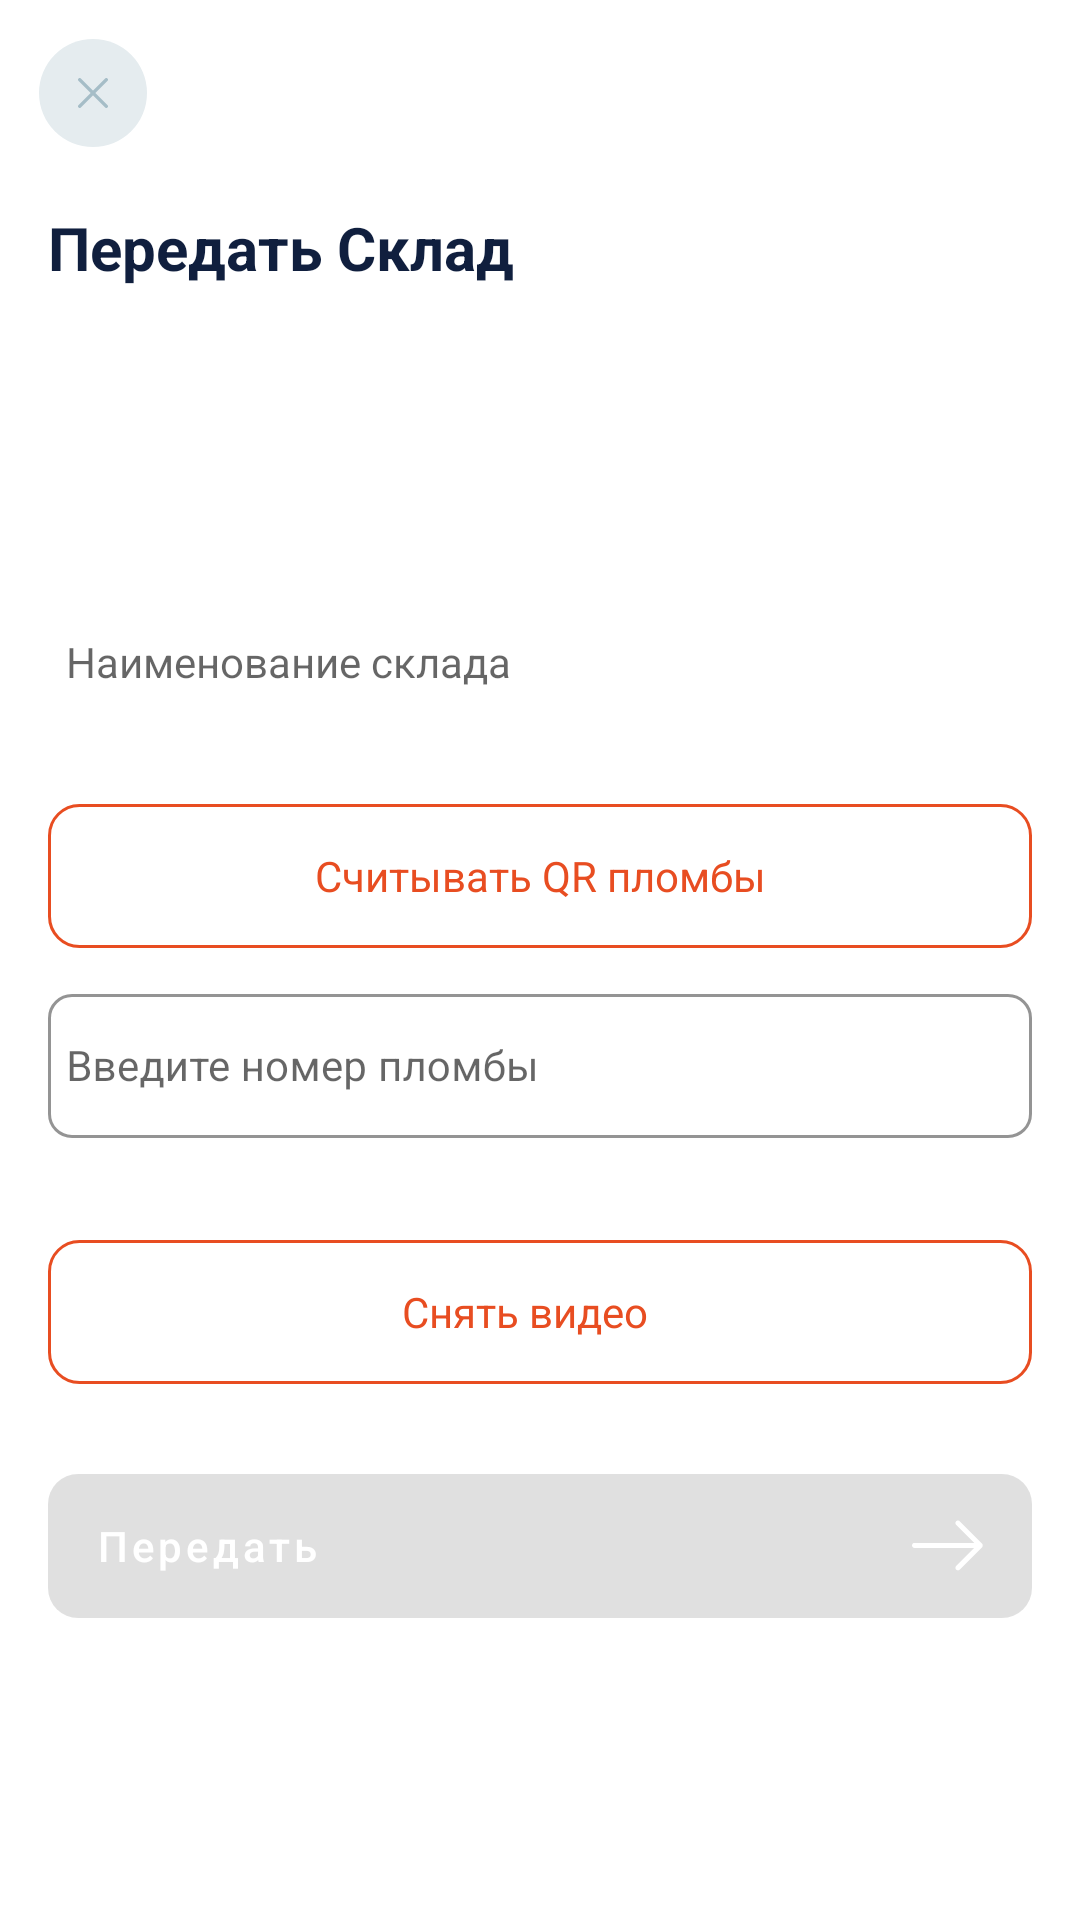

Icons on this 1080 × 1920 Android screen, each with the point to tap as point (x, y):
close: point (93, 93)
